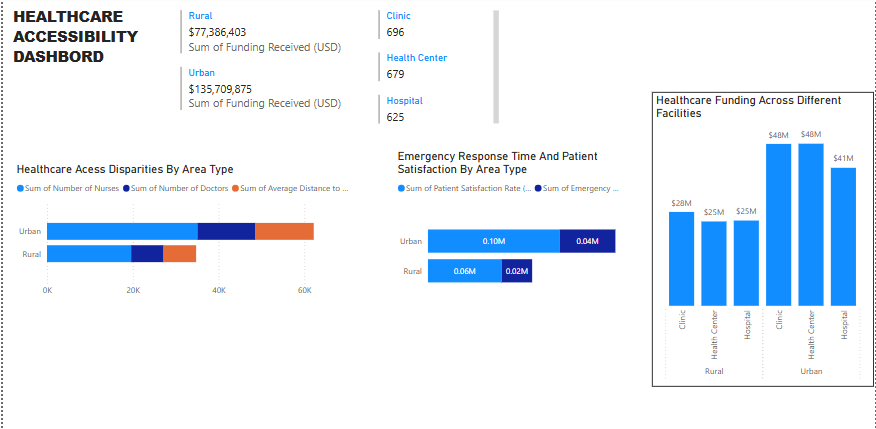

What the dashboard file says about the page in this screenshot:
{"tool":"powerbi","page":{"name":"Expected Outcome","canvas":[1280,720],"ordinal":2},"visuals":[{"type":"shape","title":"HEALTHCARE ACCESSIBILITY DASHBORD","box":[14.7,14.7,207.2,108.7],"z":0},{"type":"multiRowCard","fields":{"Values":["Healthcare_Access_Africa (3).Area type","Sum(Healthcare_Access_Africa (3).Funding Received (USD))"]},"box":[255.7,16.2,266,188.1],"z":1},{"type":"multiRowCard","fields":{"Values":["Healthcare_Access_Africa (3).Facility Type","CountNonNull(Healthcare_Access_Africa (3).Facility Type)"]},"box":[546.6,16.2,186.6,188.1],"z":2},{"type":"barChart","title":"Healthcare Acess Disparities By Area Type","fields":{"Category":["Healthcare_Access_Africa (3).Area type"],"Y":["Sum(Healthcare_Access_Africa (3).Number of Nurses)","Sum(Healthcare_Access_Africa (3).Number of Doctors)","Sum(Healthcare_Access_Africa (3).Average Distance to Facility (km))"]},"box":[14.7,243.9,506.9,207.2],"z":3},{"type":"clusteredColumnChart","title":"Healthcare Funding  Across Different Facilities","fields":{"Category":["Healthcare_Access_Africa (3).Area type","Healthcare_Access_Africa (3).Facility Type"],"Y":["Sum(Healthcare_Access_Africa (3).Funding Received (USD))"]},"box":[953.6,141.1,326.2,433.5],"z":4},{"type":"barChart","title":"Emergency Response Time And Patient Satisfaction By Area Type","fields":{"Category":["Healthcare_Access_Africa (3).Area type"],"Y":["Sum(Healthcare_Access_Africa (3).Patient Satisfaction Rate (%))","Sum(Healthcare_Access_Africa (3).Emergency Response Time (minutes))"]},"box":[574.5,224.8,348.2,242.4],"z":5}]}

Visuals, with their boxes on the page's 1280x720 design canvas (x1, y1, x2, y2). These are canvas units, not pixel positions in the 876x429 screenshot, which may show the page scaled, cropped or inside an application window:
"HEALTHCARE ACCESSIBILITY DASHBORD" shape: select_region(15, 15, 222, 123)
multiRowCard - Healthcare_Access_Africa (3).Area type x Sum(Healthcare_Access_Africa (3).Funding Received (USD)): select_region(256, 16, 522, 204)
multiRowCard - Healthcare_Access_Africa (3).Facility Type x CountNonNull(Healthcare_Access_Africa (3).Facility Type): select_region(547, 16, 733, 204)
"Healthcare Acess Disparities By Area Type" barChart: select_region(15, 244, 522, 451)
"Healthcare Funding  Across Different Facilities" clusteredColumnChart: select_region(954, 141, 1280, 575)
"Emergency Response Time And Patient Satisfaction By Area Type" barChart: select_region(574, 225, 923, 467)
